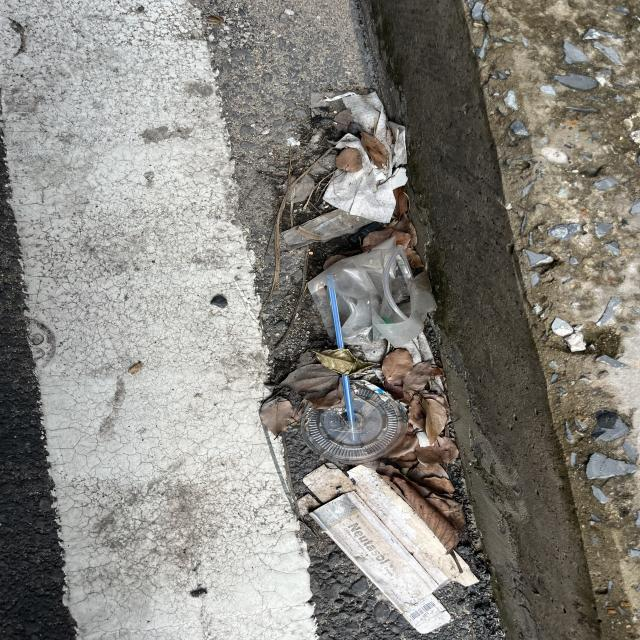drinking straw: (327, 274, 356, 422)
lid: (302, 387, 408, 464)
napkin: (320, 89, 408, 224)
plastic glass: (307, 244, 437, 346)
